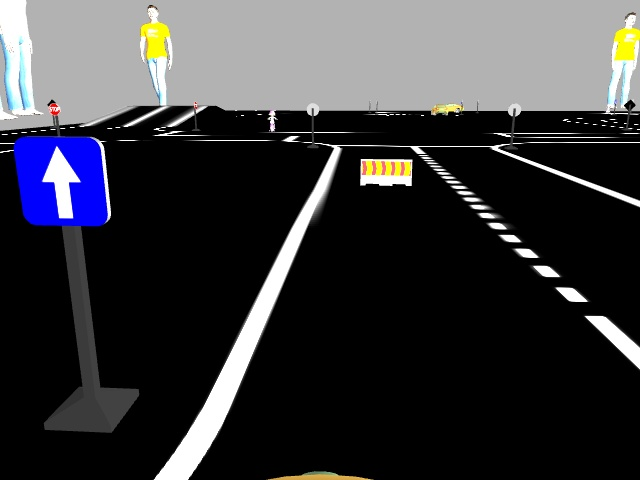ClosedRoadStand: (361, 160, 411, 183)
OneWay: (17, 137, 113, 224)
